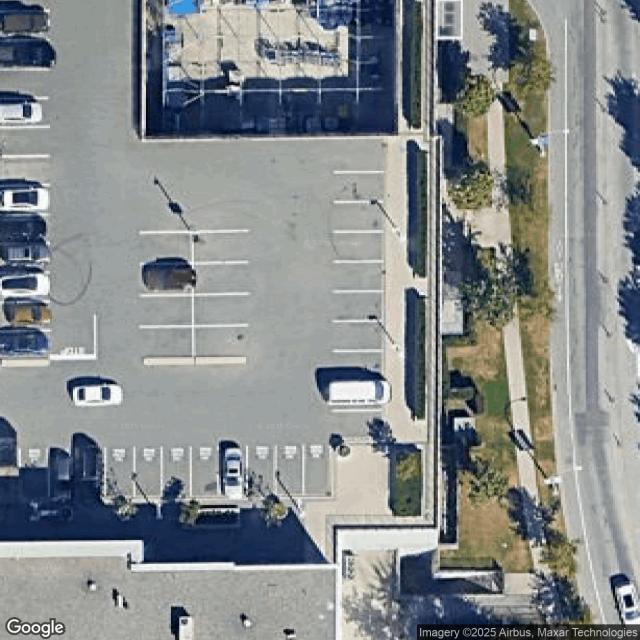car: (218, 442, 252, 506), (324, 379, 390, 409), (0, 328, 54, 364), (0, 297, 58, 328), (1, 37, 56, 69), (0, 238, 53, 270), (0, 183, 55, 213), (0, 215, 52, 246), (0, 269, 51, 299), (147, 263, 195, 294), (2, 9, 51, 36), (70, 382, 123, 406), (0, 101, 42, 127)
lot_boundary: (0, 0, 393, 503)
